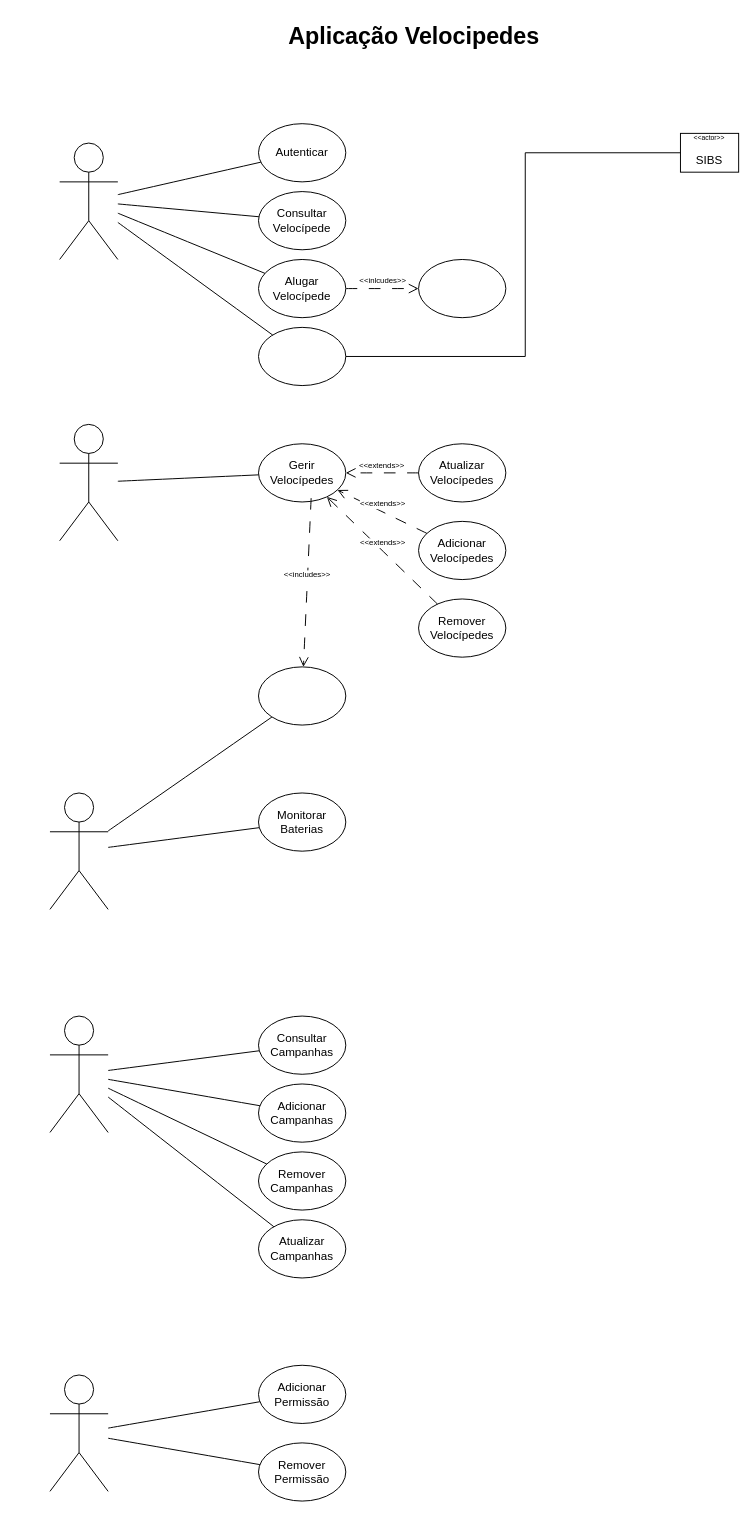
The diagram is 756 pixels wide and 1528 high, and some of its shapes have lost their labels. Here are the shapes that lost their labels. From the top down, the centre of each, then its label:
At pixel 88 200: "Cliente".
At pixel 462 288: "Efetuar Percurso".
At pixel 302 356: "Devolver Velocípede".
At pixel 88 482: "Gestor da Frota".
At pixel 302 695: "Consultar Velocípedes".
At pixel 78 850: "Técnico de Manutênção".
At pixel 78 1073: "Comercial".
At pixel 78 1432: "Administrador".
